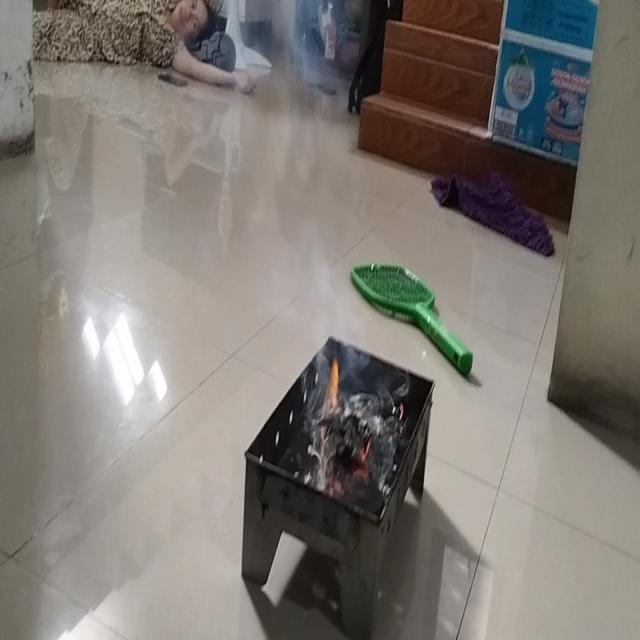fire: (232, 3, 345, 272)
